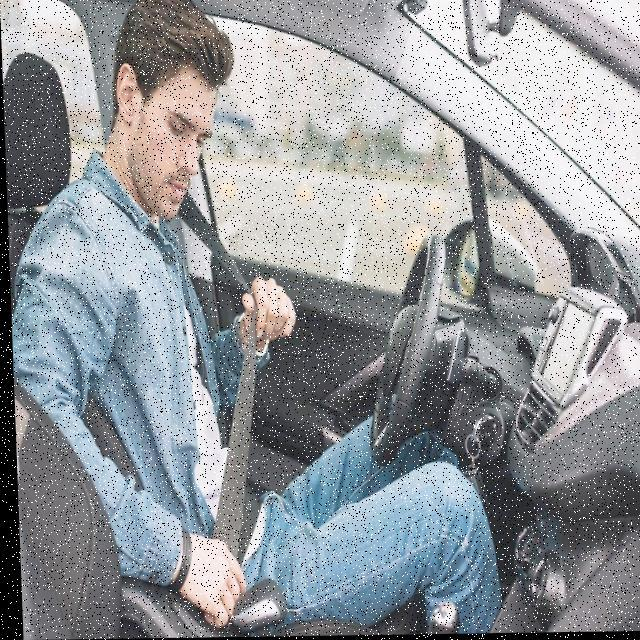seatbelt: (101, 220, 271, 588)
